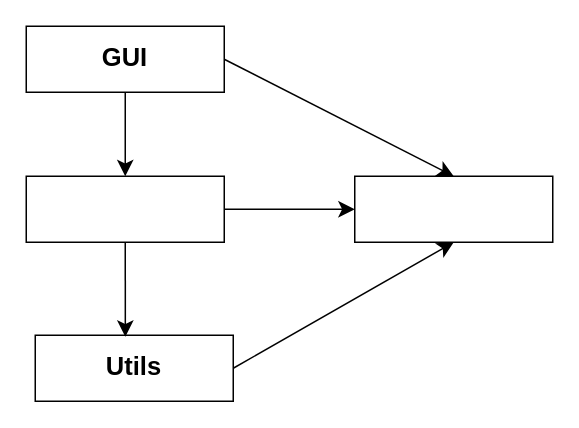
The diagram is 579 pixels wide and 428 high, and some of its shapes have lost their labels. The shapes that lost their labels are listed below. From the top down, each one's centre as x and y in pixels, then its label:
At point (124, 208): "Business".
At point (453, 208): "Model".
